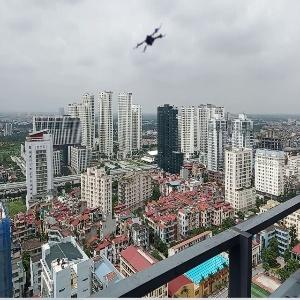drone: (130, 18, 169, 57)
